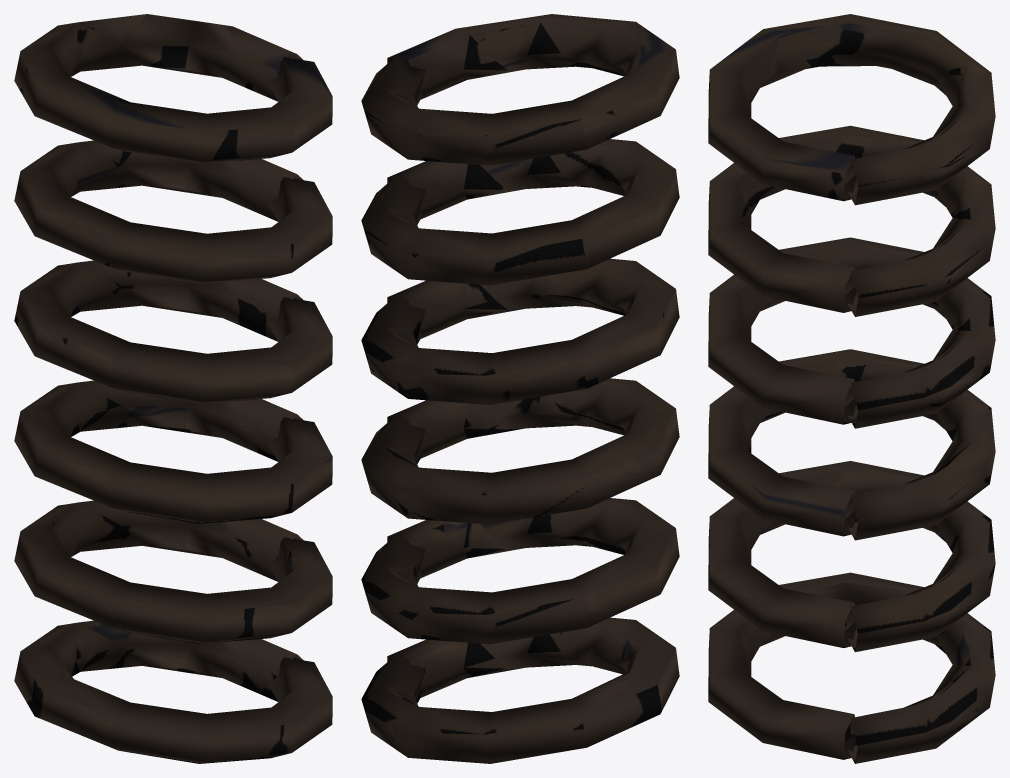
Rendered from Albatros_Baston_Cuero.fbx.
The picture shows the model from 3 angles, left to right: view 1: azimuth 30°, elevation 25°; view 2: azimuth 150°, elevation 25°; view 3: azimuth 270°, elevation 25°; orthographic projection. The views are drawn at different scales.
Parts seen in each view (by area): view 1: Albatros_Baston_Cuero; view 2: Albatros_Baston_Cuero; view 3: Albatros_Baston_Cuero.
Part boxes in pixels (x1,y1,x2,y2): Albatros_Baston_Cuero: (14, 14, 332, 763); Albatros_Baston_Cuero: (361, 14, 679, 763); Albatros_Baston_Cuero: (708, 14, 995, 763).
Bounding box in the file's own units: 0.3502 × 0.8125 × 0.3329.
